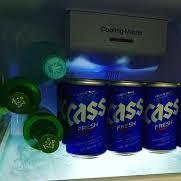beer: (60, 78, 180, 158)
